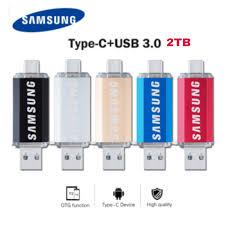Flash-drive: (126, 58, 179, 174), (12, 50, 55, 174), (172, 64, 216, 183), (51, 61, 95, 172), (92, 59, 134, 172)
